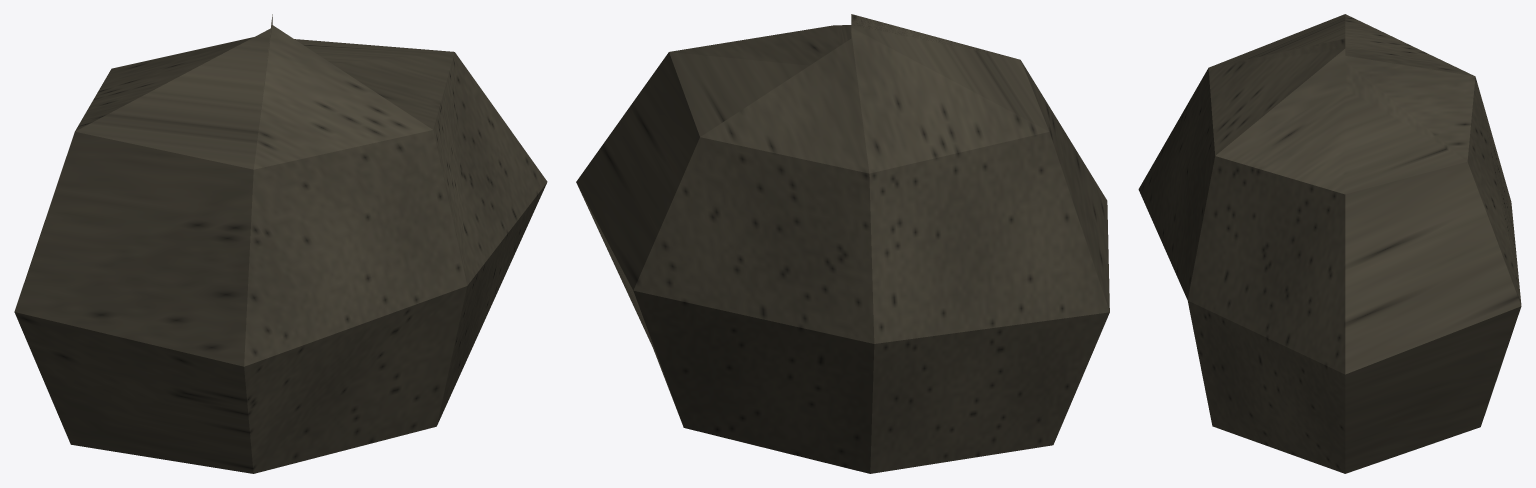
Rendered from PROP-BB5EFFBC48E1_lod2.glb.
3 renders of one model, left to right at view 1: azimuth 30°, elevation 25°; view 2: azimuth 150°, elevation 25°; view 3: azimuth 270°, elevation 25°, orthographic. The views are drawn at different scales.
Visible parts, largest first — view 1: rock.003; view 2: rock.003; view 3: rock.003.
Part boxes in pixels (<box>): rock.003: <box>14,14,547,473</box>; rock.003: <box>576,14,1109,473</box>; rock.003: <box>1138,14,1521,473</box>.
Size of the model in its own units: 0.8825 by 0.6034 by 0.6032.
1 material, 1 textured.
